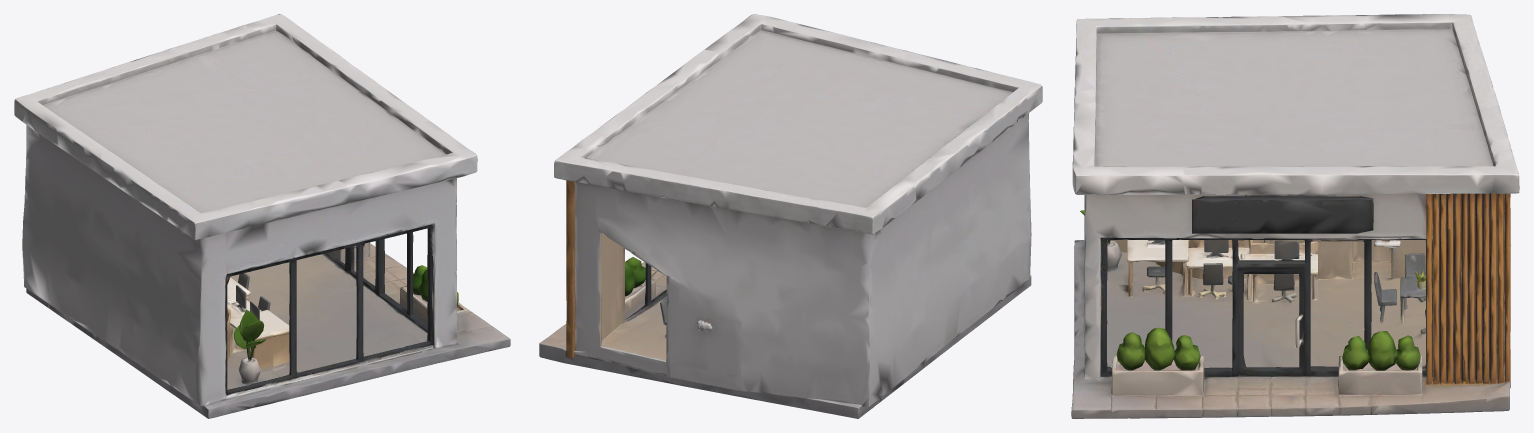
Rendered from escritorio-moderno.glb.
3 renders of one model, left to right at view 1: azimuth 30°, elevation 25°; view 2: azimuth 150°, elevation 25°; view 3: azimuth 270°, elevation 25°, orthographic. The views are drawn at different scales.
Visible parts, largest first — view 1: tripo_node_0b848d16-bd22-4683-bfbf-3b66da1bc8d2; view 2: tripo_node_0b848d16-bd22-4683-bfbf-3b66da1bc8d2; view 3: tripo_node_0b848d16-bd22-4683-bfbf-3b66da1bc8d2.
Part boxes in pixels (left/top/right/bottom): tripo_node_0b848d16-bd22-4683-bfbf-3b66da1bc8d2: left=14, top=14, right=510, bottom=418; tripo_node_0b848d16-bd22-4683-bfbf-3b66da1bc8d2: left=539, top=14, right=1042, bottom=418; tripo_node_0b848d16-bd22-4683-bfbf-3b66da1bc8d2: left=1071, top=14, right=1519, bottom=418.
Size of the model in its own units: 1.7 by 1 by 1.79.
1 material, 1 textured.
